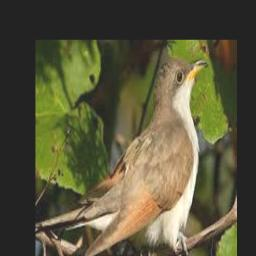Cuckoo: (82, 57, 208, 256)
